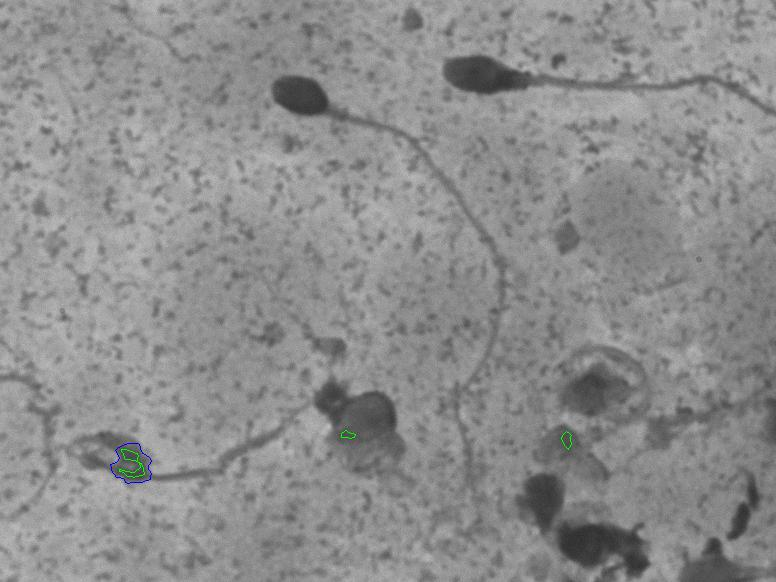Abnormal: (437, 40, 745, 116)
Normal: (258, 66, 523, 505)
